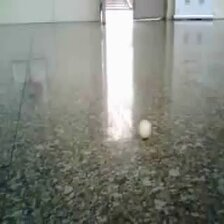w: (138, 119, 152, 140)
